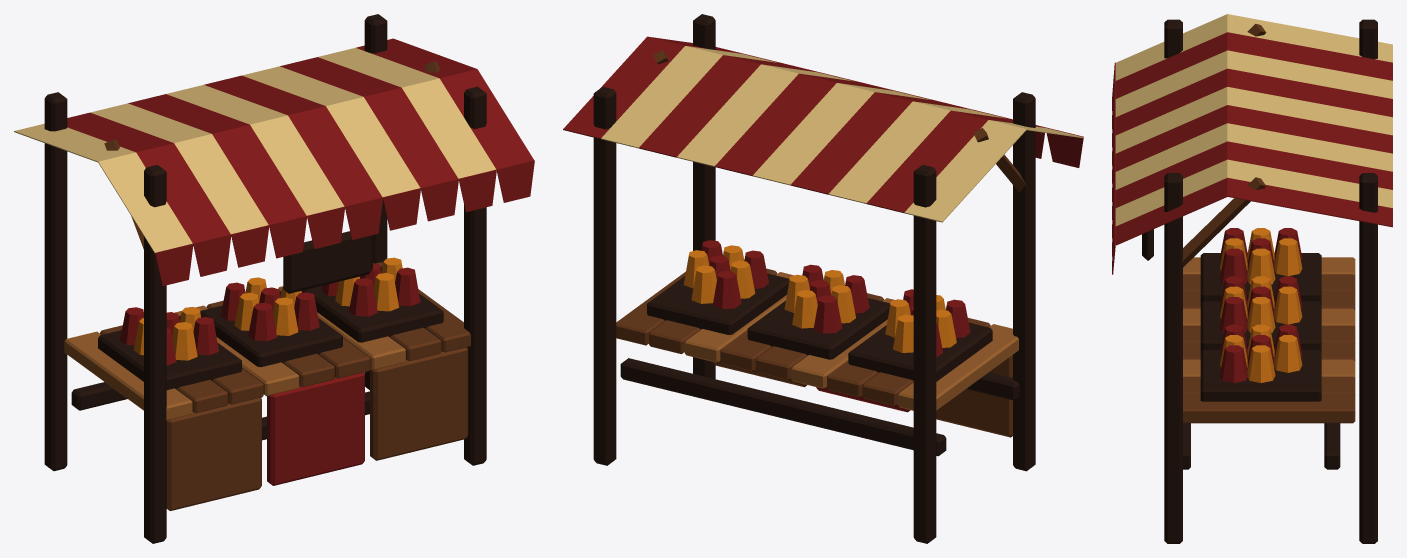
The model's file is Banca_de_frutas_LOD0.fbx.
The picture shows the model from 3 angles, left to right: view 1: azimuth 30°, elevation 25°; view 2: azimuth 150°, elevation 25°; view 3: azimuth 270°, elevation 25°; orthographic projection.
Parts seen in each view (by area): view 1: Banca_de_frutas_LOD0; view 2: Banca_de_frutas_LOD0; view 3: Banca_de_frutas_LOD0.
Boxes of the visible parts, bbox=[...] form: Banca_de_frutas_LOD0: bbox=[14, 14, 534, 543]; Banca_de_frutas_LOD0: bbox=[563, 14, 1083, 543]; Banca_de_frutas_LOD0: bbox=[1112, 14, 1392, 543].
Size of the model in its own units: 320 by 300 by 209.
1 material, 1 textured.
